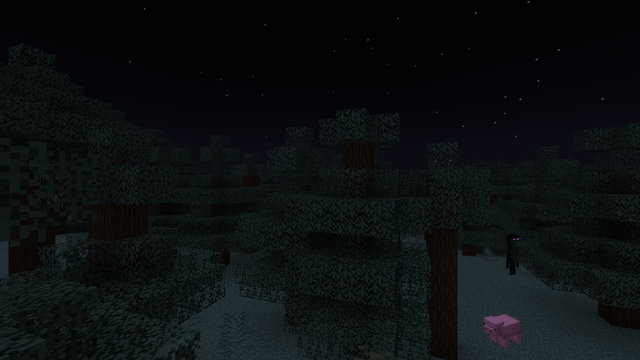cochons: (488, 312, 521, 350)
endermens: (505, 232, 518, 276)
